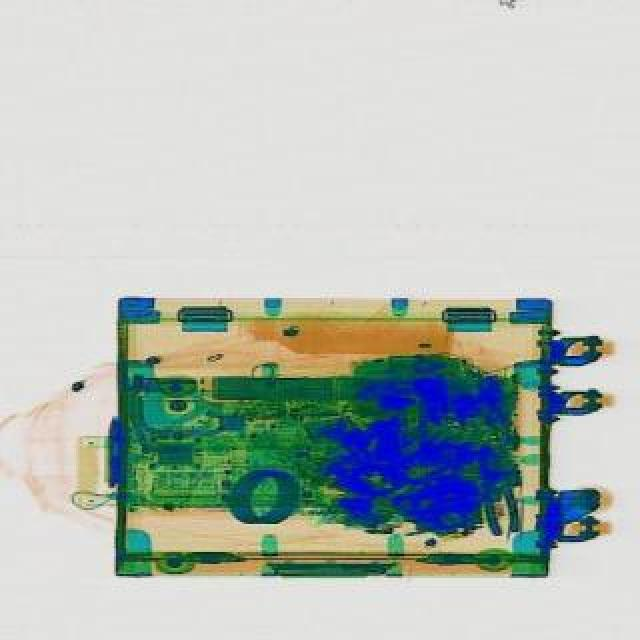wrench: (468, 442, 520, 536)
